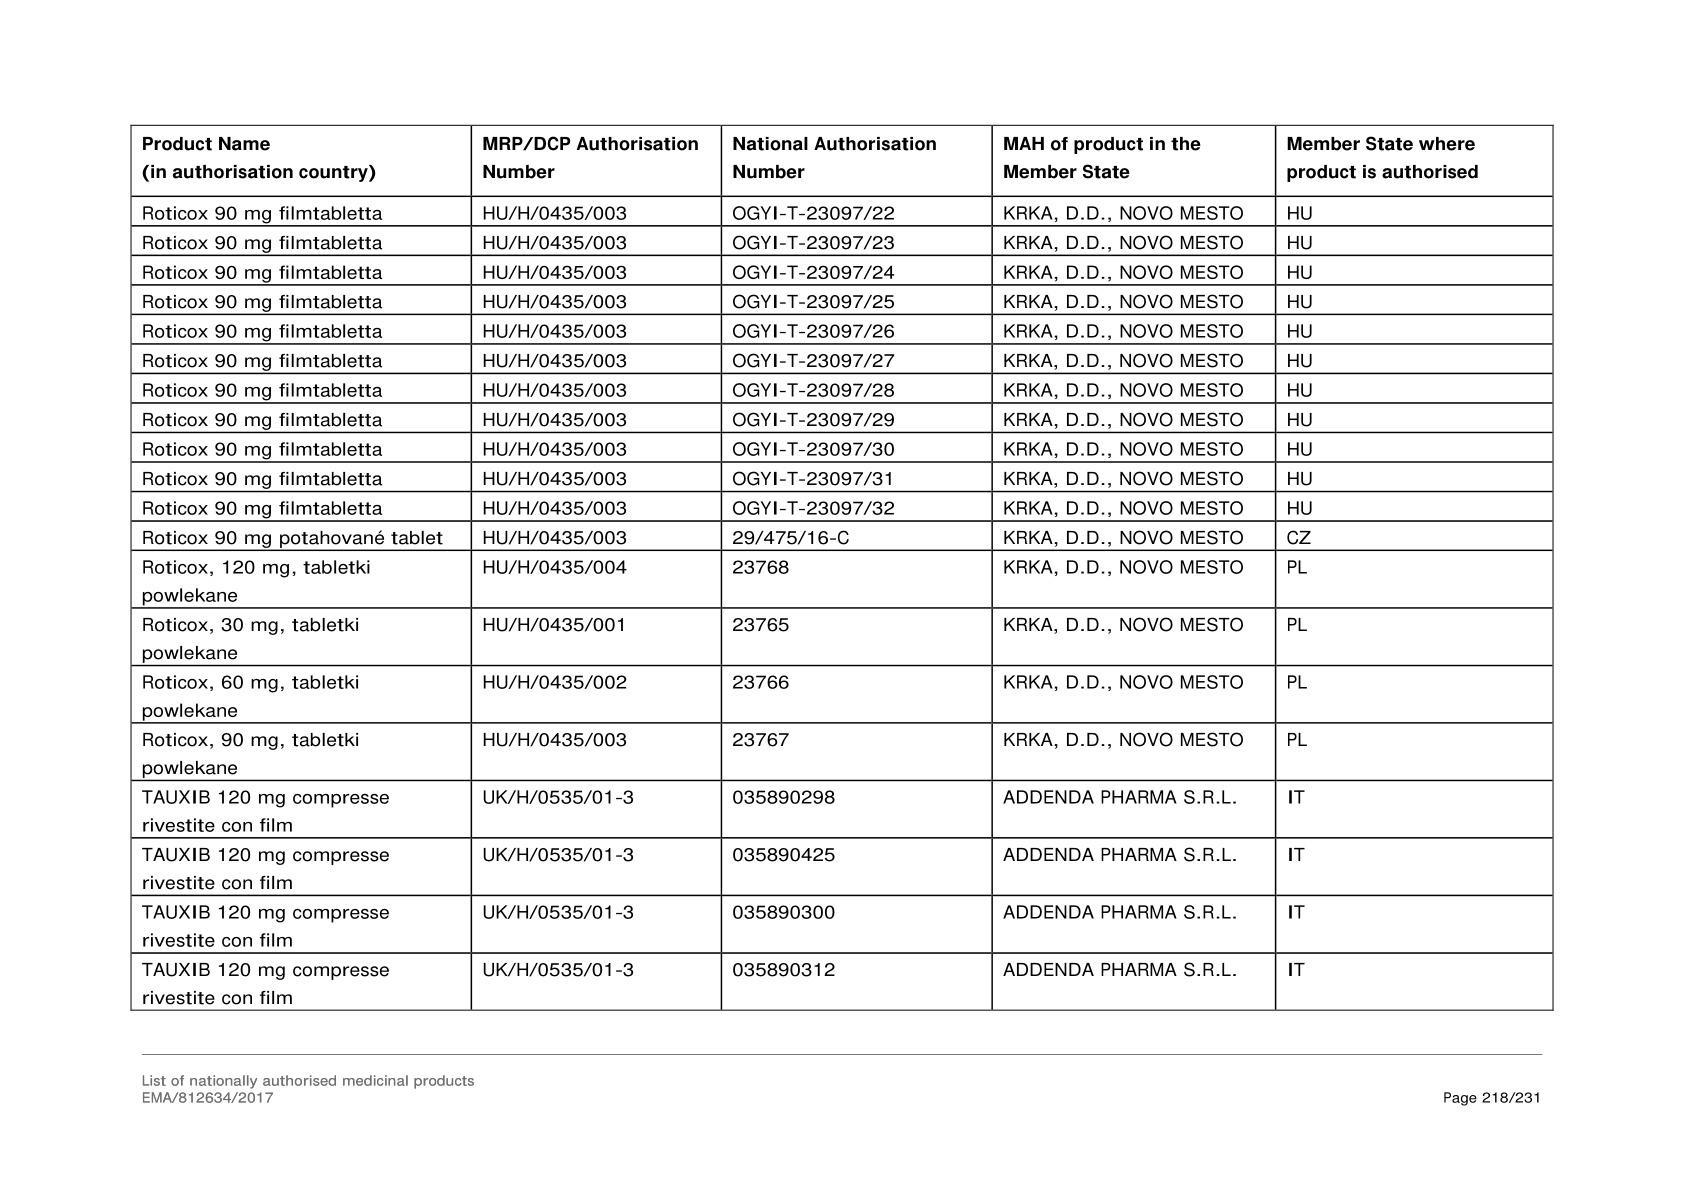full_lined: (129, 122, 1555, 1012)
